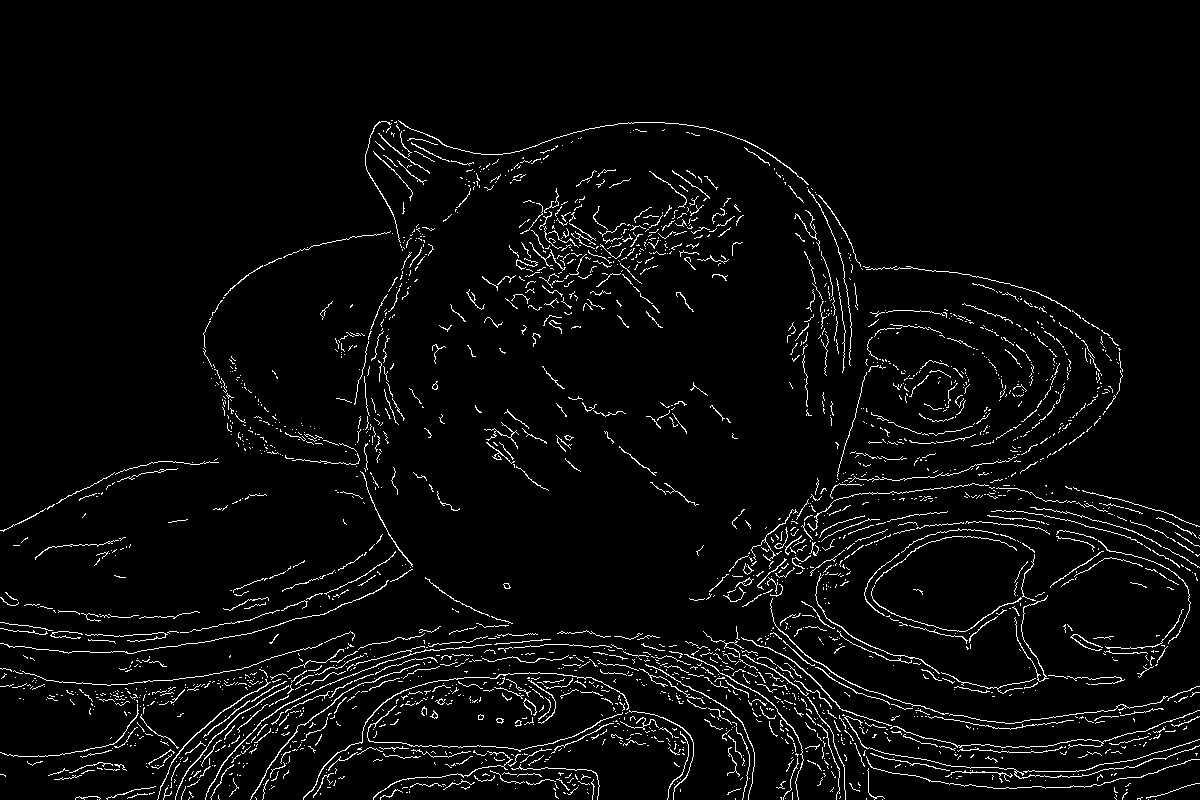red_onion: (345, 102, 871, 649), (739, 476, 1195, 799), (179, 623, 879, 797), (24, 436, 416, 686), (847, 247, 1153, 470)
